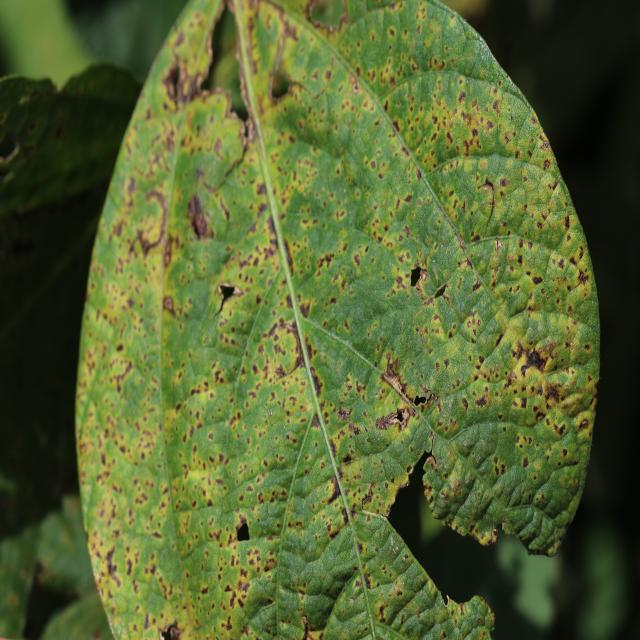Bacterial_Blight: (326, 379, 408, 489), (124, 184, 169, 259), (176, 190, 223, 254), (163, 55, 207, 111), (392, 369, 435, 418), (284, 319, 318, 377), (185, 190, 214, 240), (415, 265, 446, 305), (214, 281, 243, 316), (133, 227, 164, 259), (270, 67, 298, 102), (476, 177, 496, 225), (164, 63, 182, 102), (525, 346, 548, 372), (408, 264, 429, 292), (158, 621, 184, 640), (104, 544, 118, 579), (307, 367, 323, 396), (543, 383, 563, 405), (326, 479, 342, 505), (235, 520, 251, 542), (422, 389, 438, 410), (317, 252, 334, 270), (375, 414, 393, 431), (300, 615, 310, 640), (361, 489, 374, 508), (163, 296, 175, 315), (480, 177, 495, 192), (577, 268, 589, 286), (337, 407, 350, 421), (342, 451, 354, 463), (495, 332, 504, 347), (396, 409, 405, 423), (392, 118, 400, 133), (532, 275, 543, 285), (564, 215, 571, 229), (543, 158, 551, 170), (116, 342, 124, 351)
Soybean: (75, 0, 599, 640)
